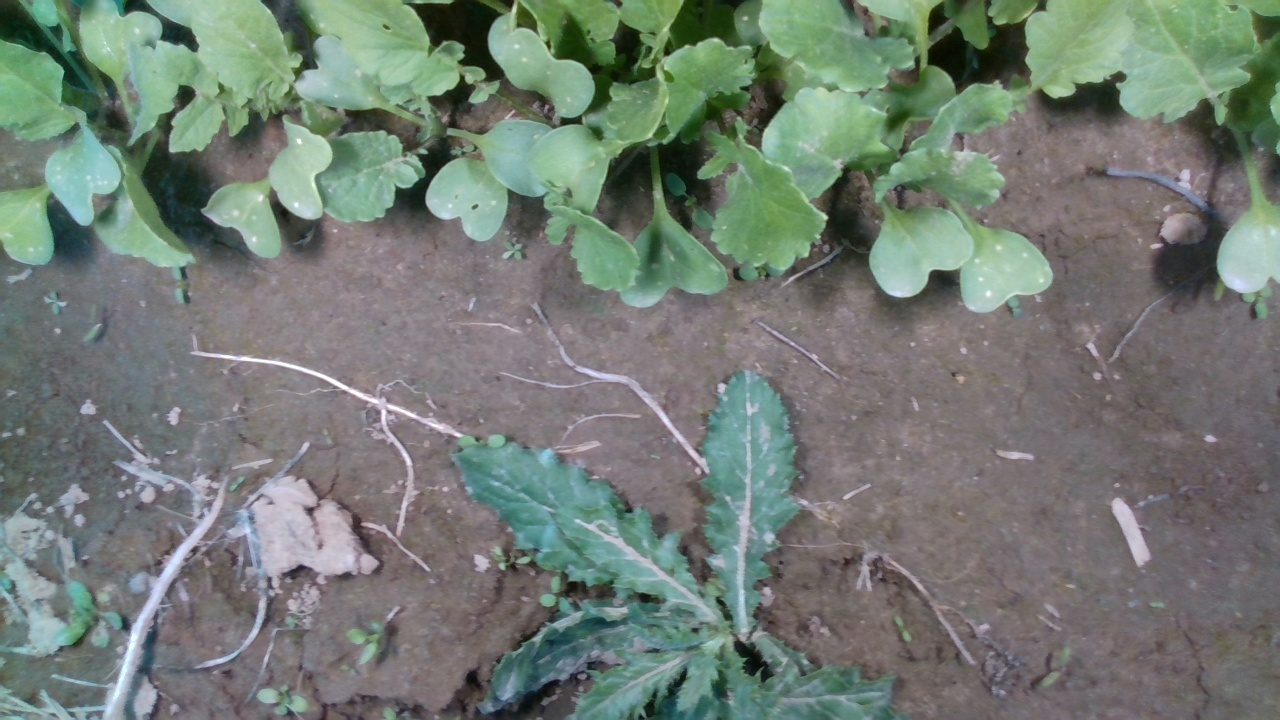weed: (1040, 647, 1072, 687), (81, 302, 104, 344), (42, 289, 67, 316), (170, 266, 186, 306), (893, 612, 912, 643), (501, 240, 523, 260)
